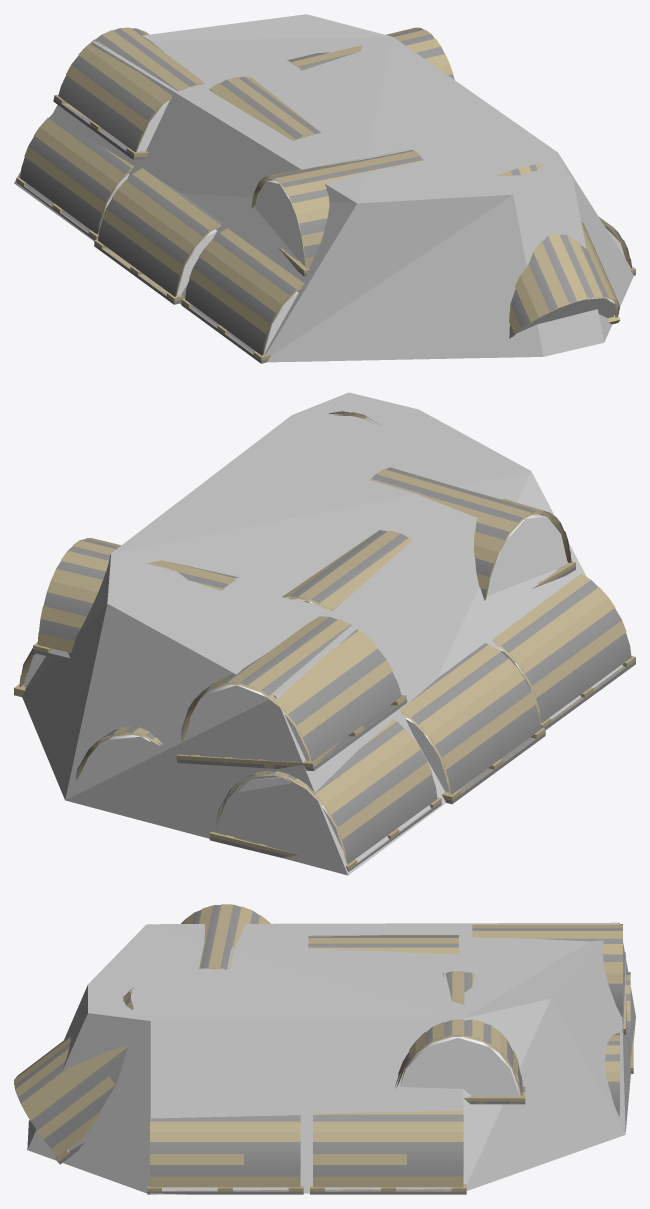
Rendered from eca_fv_lobstertrap_stack_b.DAE.
3 renders of one model, top to bottom at view 1: azimuth 30°, elevation 25°; view 2: azimuth 150°, elevation 25°; view 3: azimuth 270°, elevation 25°, orthographic. The views are drawn at different scales.
Visible parts, largest first — view 1: Colmesh-1, eca_fv_lobstertrap_stack_b150, eca_fv_lobstertrap_stack_b20; view 2: Colmesh-1, eca_fv_lobstertrap_stack_b150, eca_fv_lobstertrap_stack_b20; view 3: Colmesh-1, eca_fv_lobstertrap_stack_b150, eca_fv_lobstertrap_stack_b20.
Boxes of the visible parts, box(x1,y1,x2,y2) form: Colmesh-1: box(14, 14, 633, 362); eca_fv_lobstertrap_stack_b150: box(16, 27, 635, 362); eca_fv_lobstertrap_stack_b20: box(16, 28, 635, 363); Colmesh-1: box(22, 392, 622, 875); eca_fv_lobstertrap_stack_b150: box(14, 411, 635, 870); eca_fv_lobstertrap_stack_b20: box(14, 411, 635, 871); Colmesh-1: box(27, 922, 635, 1194); eca_fv_lobstertrap_stack_b150: box(14, 904, 633, 1191); eca_fv_lobstertrap_stack_b20: box(14, 904, 633, 1194).
Bounding box in the file's own units: 1.91 × 2.78 × 0.6998.
